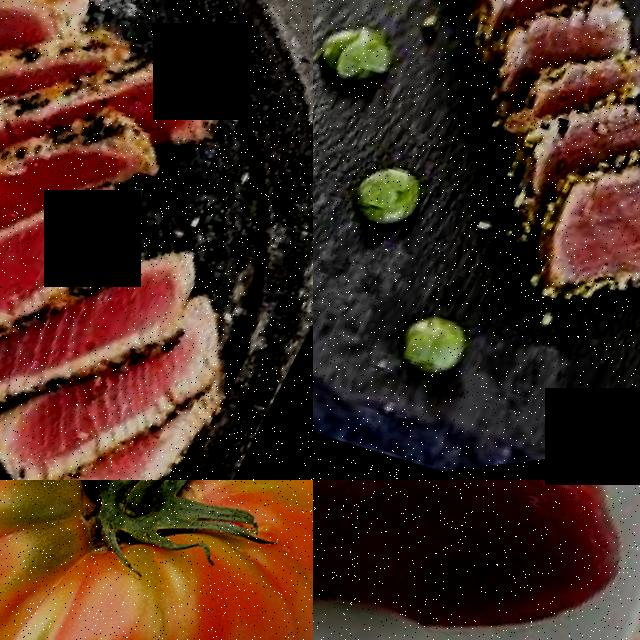tomato: (0, 480, 313, 640)
tuna: (313, 480, 640, 640)
